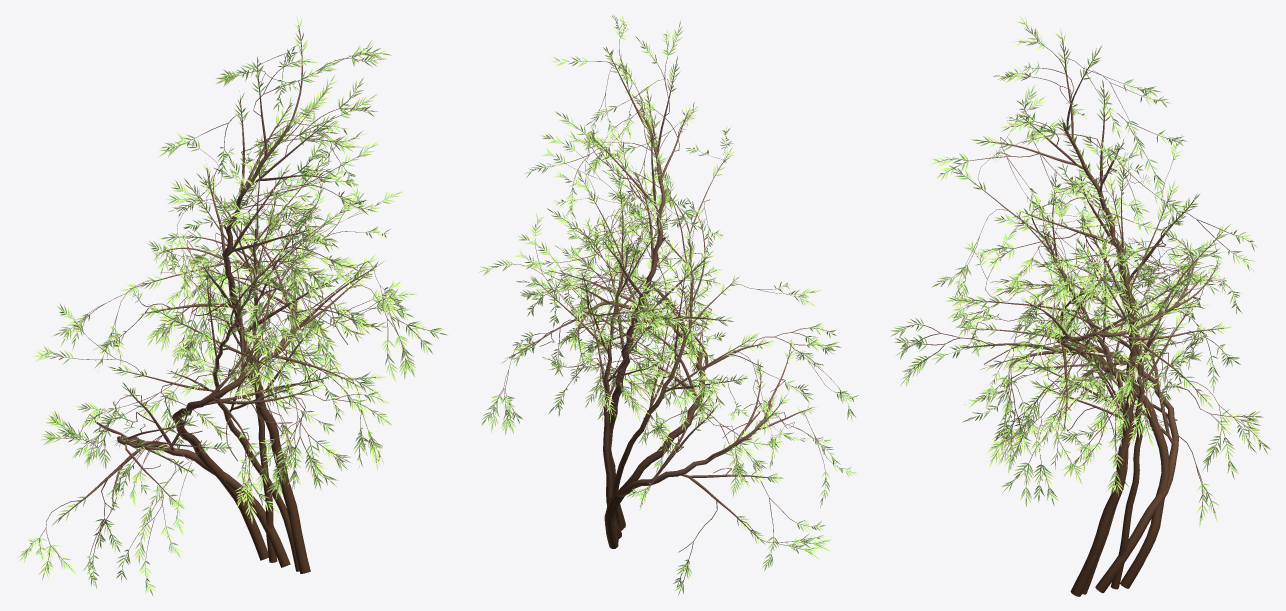
File: Branch1.fbx
The picture shows the model from 3 angles, left to right: view 1: azimuth 30°, elevation 25°; view 2: azimuth 150°, elevation 25°; view 3: azimuth 270°, elevation 25°; orthographic projection. The views are drawn at different scales.
Parts seen in each view (by area): view 1: BranchLeaf1, Branch1; view 2: BranchLeaf1, Branch1; view 3: BranchLeaf1, Branch1.
Part boxes in pixels (<box>): BranchLeaf1: <box>15,18,447,596</box>; Branch1: <box>23,25,438,587</box>; BranchLeaf1: <box>478,15,858,595</box>; Branch1: <box>486,19,851,587</box>; BranchLeaf1: <box>890,15,1270,527</box>; Branch1: <box>898,22,1263,596</box>.
Bounding box in the file's own units: 3.36 × 4.6 × 2.83.
